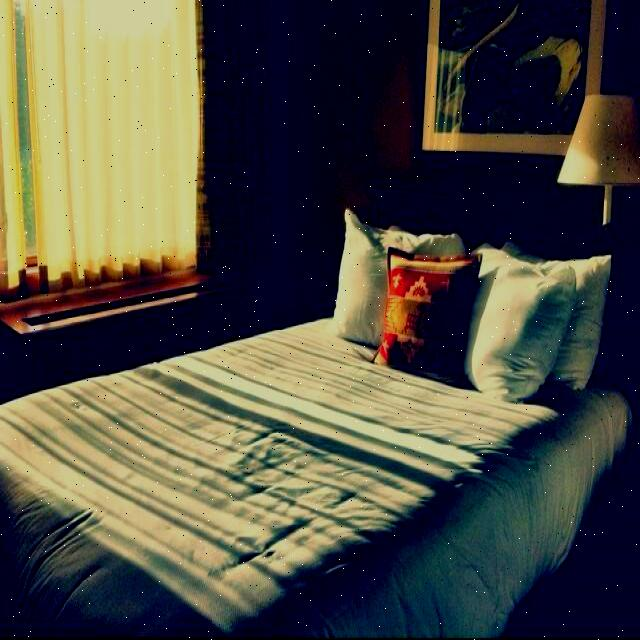bed: (0, 230, 623, 640)
